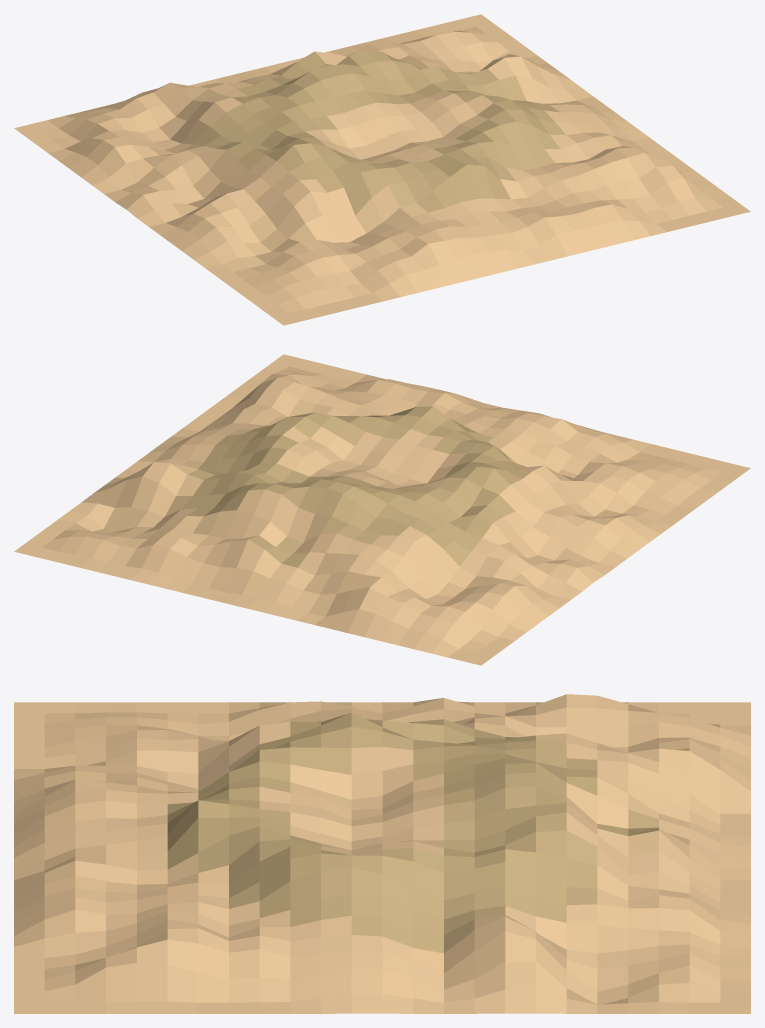
Rendered from Large_Land_001.fbx.
The picture shows the model from 3 angles, top to bottom: view 1: azimuth 30°, elevation 25°; view 2: azimuth 150°, elevation 25°; view 3: azimuth 270°, elevation 25°; orthographic projection. The views are drawn at different scales.
Parts seen in each view (by area): view 1: Large_Land.001; view 2: Large_Land.001; view 3: Large_Land.001.
Boxes of the visible parts, left/top/right/bottom form: Large_Land.001: left=14, top=14, right=750, bottom=325; Large_Land.001: left=14, top=354, right=750, bottom=665; Large_Land.001: left=14, top=694, right=750, bottom=1013.
Bounding box in the file's own units: 16000 × 2385 × 16000.
